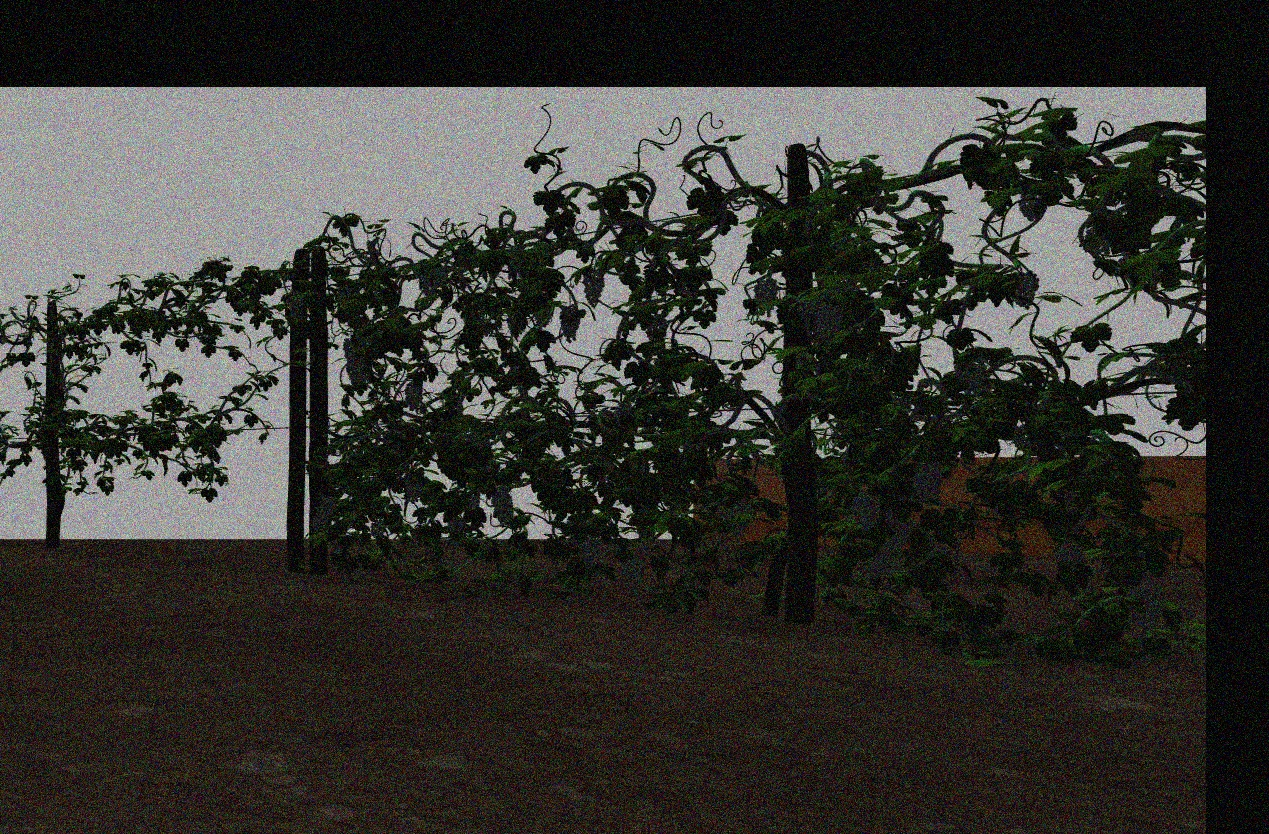grape: (1128, 577, 1166, 635), (953, 350, 989, 395), (883, 509, 914, 555), (913, 461, 943, 506), (724, 495, 756, 537), (852, 490, 881, 533), (1011, 267, 1040, 309), (814, 303, 843, 343), (341, 338, 365, 386), (754, 276, 779, 316), (863, 542, 888, 581), (492, 484, 515, 525), (583, 267, 606, 307), (559, 303, 581, 343), (1054, 539, 1085, 567), (579, 530, 601, 569), (621, 556, 645, 591), (404, 379, 424, 411), (287, 288, 305, 321), (403, 472, 422, 502), (319, 493, 336, 517), (312, 510, 330, 532), (448, 514, 466, 535), (371, 517, 387, 540)
